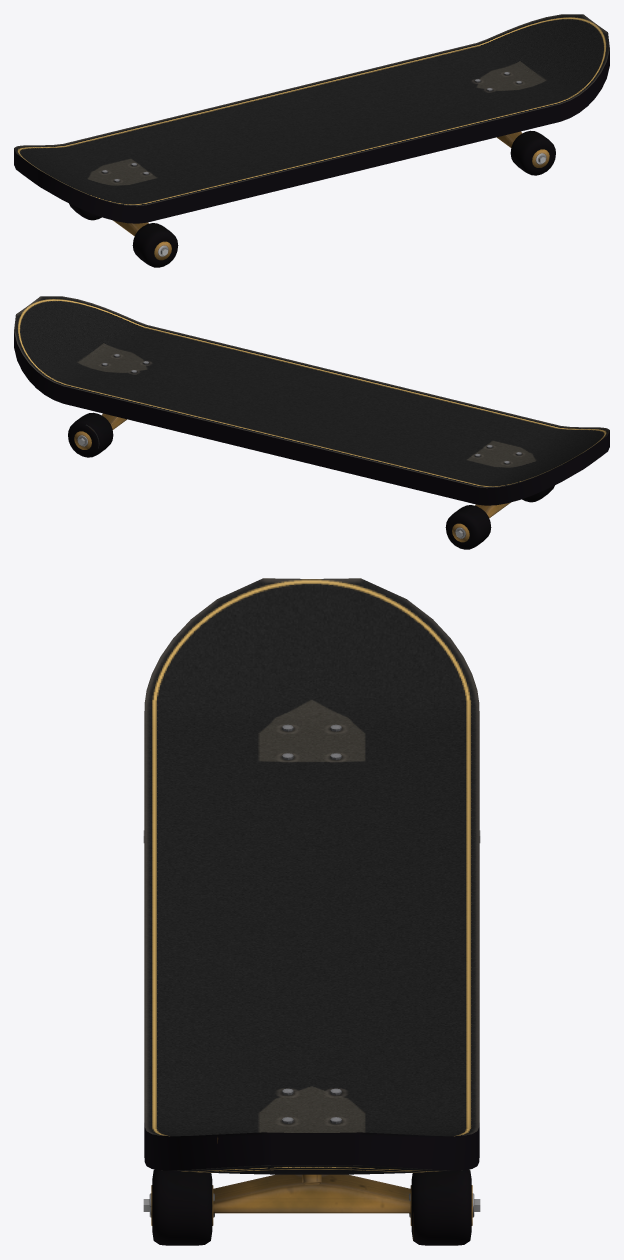
File: SkateboardHeadmaster.fbx
The picture shows the model from 3 angles, top to bottom: view 1: azimuth 30°, elevation 25°; view 2: azimuth 150°, elevation 25°; view 3: azimuth 270°, elevation 25°; orthographic projection. The views are drawn at different scales.
Visible parts, largest first — view 1: SkateboardHeadmaster_Main, SkateboardHeadmaster_WheelBR, SkateboardHeadmaster_WheelFR; view 2: SkateboardHeadmaster_Main, SkateboardHeadmaster_WheelBL, SkateboardHeadmaster_WheelFL; view 3: SkateboardHeadmaster_Main, SkateboardHeadmaster_TruckF, SkateboardHeadmaster_WheelFL, SkateboardHeadmaster_WheelFR.
Part boxes in pixels (box(x1,y1,x2,y2)): SkateboardHeadmaster_Main: box(14, 14, 609, 223); SkateboardHeadmaster_WheelBR: box(132, 223, 178, 267); SkateboardHeadmaster_WheelFR: box(510, 130, 555, 175); SkateboardHeadmaster_Main: box(14, 296, 609, 505); SkateboardHeadmaster_WheelBL: box(445, 505, 491, 549); SkateboardHeadmaster_WheelFL: box(68, 412, 113, 457); SkateboardHeadmaster_Main: box(144, 578, 479, 1174); SkateboardHeadmaster_TruckF: box(213, 1174, 410, 1213); SkateboardHeadmaster_WheelFL: box(409, 1169, 480, 1245); SkateboardHeadmaster_WheelFR: box(143, 1169, 214, 1245).
Bounding box in the file's own units: 544 × 92.43 × 140.
